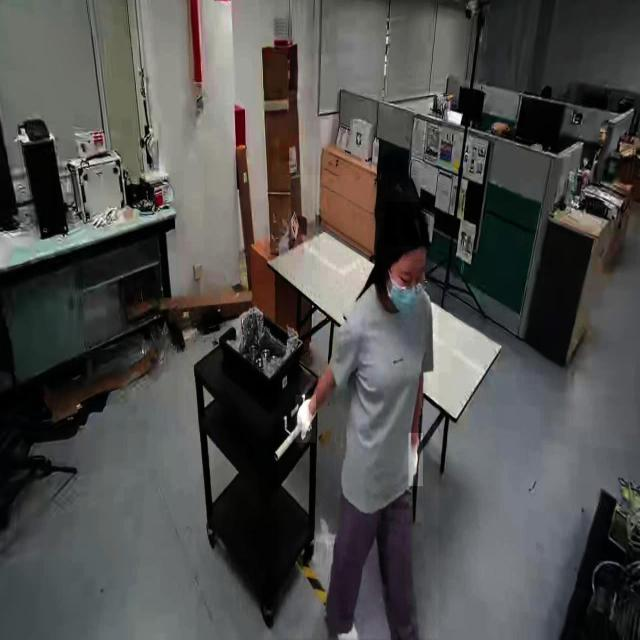face_mask: (388, 261, 422, 313)
hand_glove: (296, 394, 316, 444), (408, 433, 424, 487)
head_nohelmet: (384, 202, 430, 247)
person: (278, 175, 439, 639)
